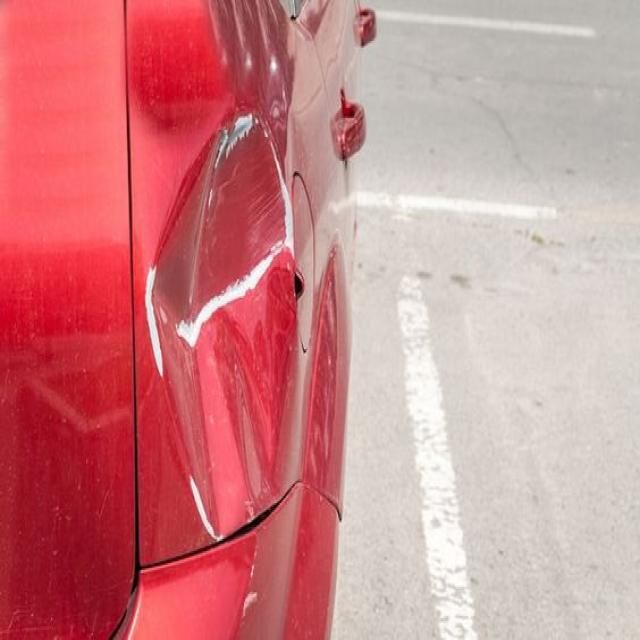Dent: (135, 86, 311, 564)
